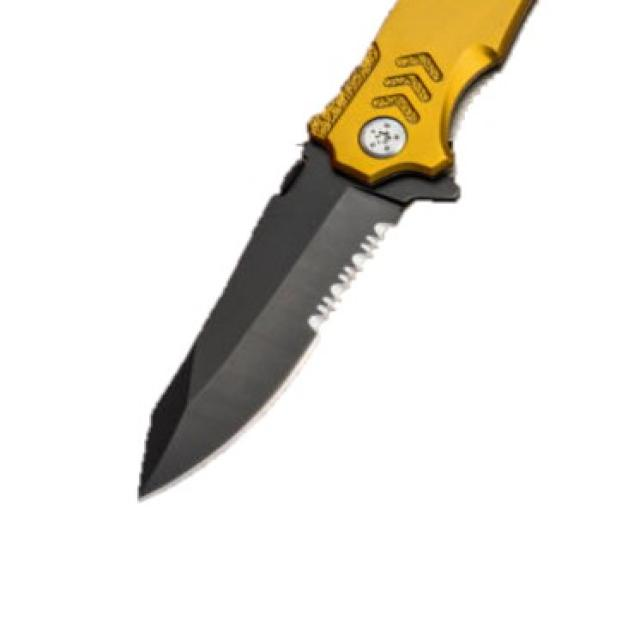knife: (133, 1, 546, 507)
